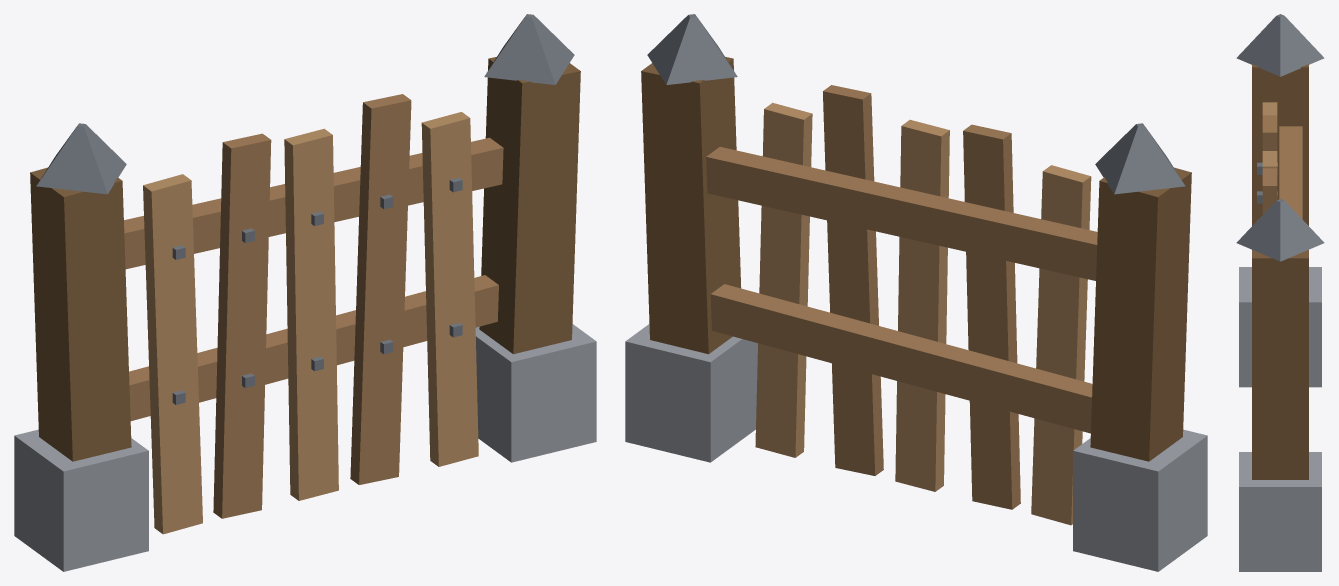
Rendered from prop_fence.glb.
The picture shows the model from 3 angles, left to right: view 1: azimuth 30°, elevation 25°; view 2: azimuth 150°, elevation 25°; view 3: azimuth 270°, elevation 25°; orthographic projection. The views are drawn at different scales.
Visible parts, largest first — view 1: Fence; view 2: Fence; view 3: Fence.
Boxes of the visible parts, <box> form: Fence: <box>14,14,596,571</box>; Fence: <box>625,14,1207,571</box>; Fence: <box>1236,14,1324,571</box>.
Bounding box in the file's own units: 1.01 × 0.7511 × 0.17.
